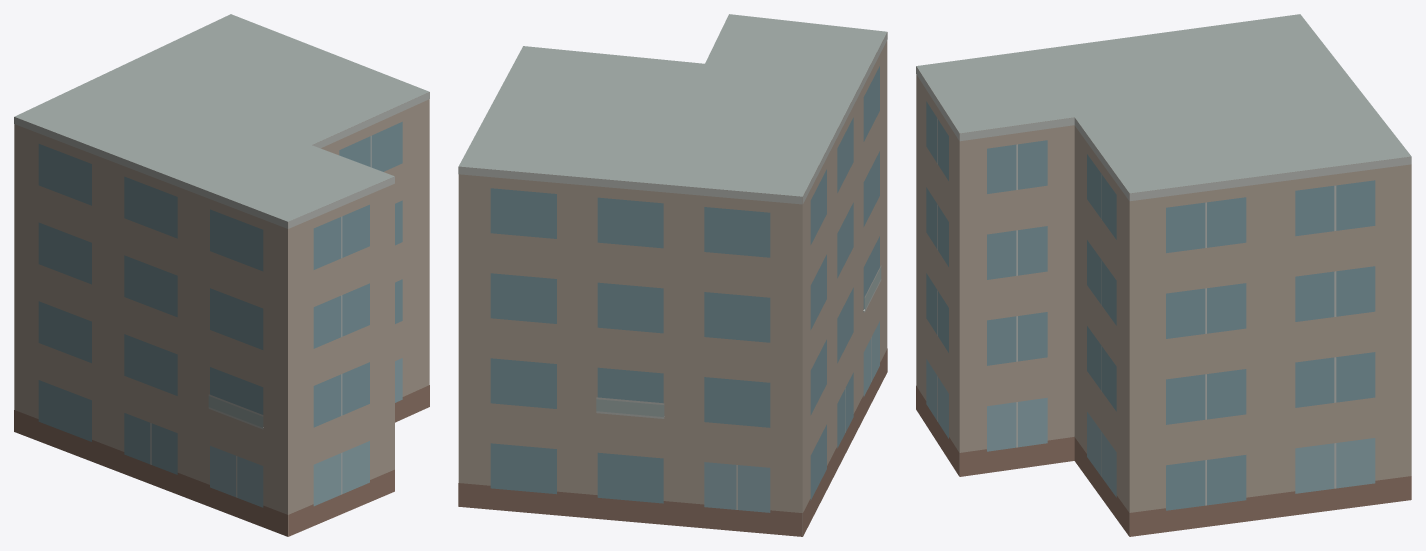
Rendered from survey-upis-32598592.glb.
3 renders of one model, left to right at view 1: azimuth 30°, elevation 25°; view 2: azimuth 150°, elevation 25°; view 3: azimuth 270°, elevation 25°, orthographic. The views are drawn at different scales.
Parts seen in each view (by area): view 1: survey-upis-32598592.tmp; view 2: survey-upis-32598592.tmp; view 3: survey-upis-32598592.tmp.
Boxes of the visible parts, <box> form: survey-upis-32598592.tmp: <box>14,14,429,536</box>; survey-upis-32598592.tmp: <box>458,14,887,536</box>; survey-upis-32598592.tmp: <box>916,14,1411,536</box>.
Bounding box in the file's own units: 11.94 × 10.65 × 13.93.
